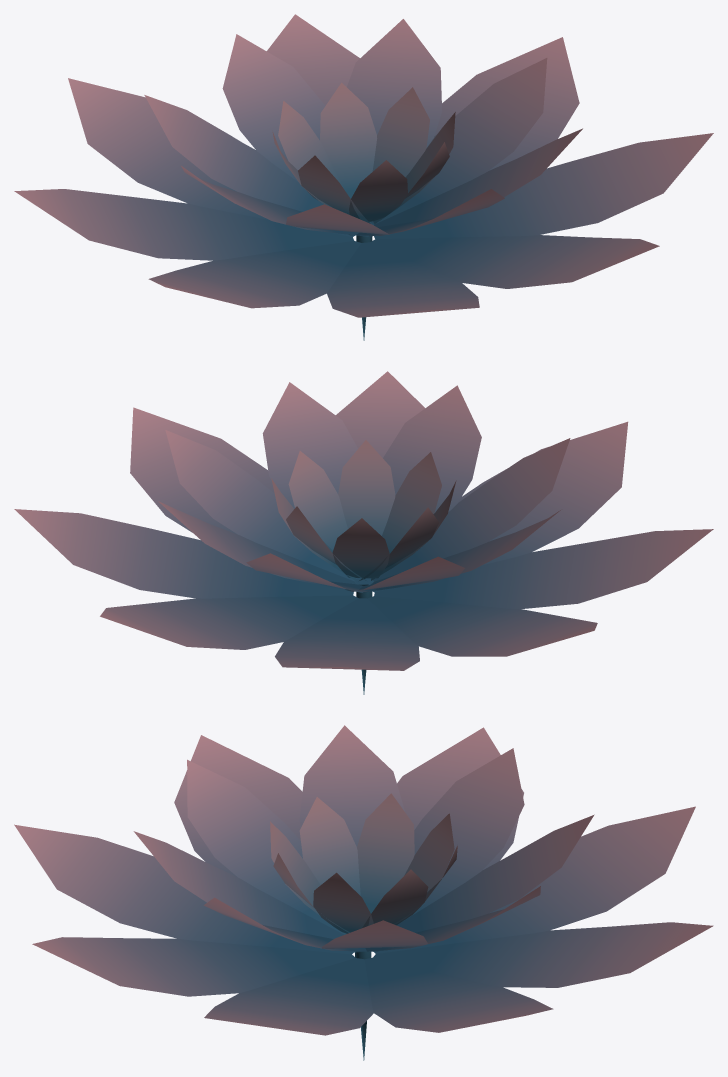
Rendered from plants-cacti-succulents-pink-rosette_v5.glb.
3 views of the same model, one above another, from view 1: azimuth 30°, elevation 25°; view 2: azimuth 150°, elevation 25°; view 3: azimuth 270°, elevation 25° (orthographic). The views are drawn at different scales.
Parts seen in each view (by area): view 1: Pink Rosette_v5; view 2: Pink Rosette_v5; view 3: Pink Rosette_v5.
Part boxes in pixels (box(x1,y1,x2,y2)): Pink Rosette_v5: box(14, 14, 713, 340); Pink Rosette_v5: box(14, 371, 713, 694); Pink Rosette_v5: box(14, 725, 713, 1060).
Size of the model in its own units: 0.25 by 0.0946 by 0.25.
